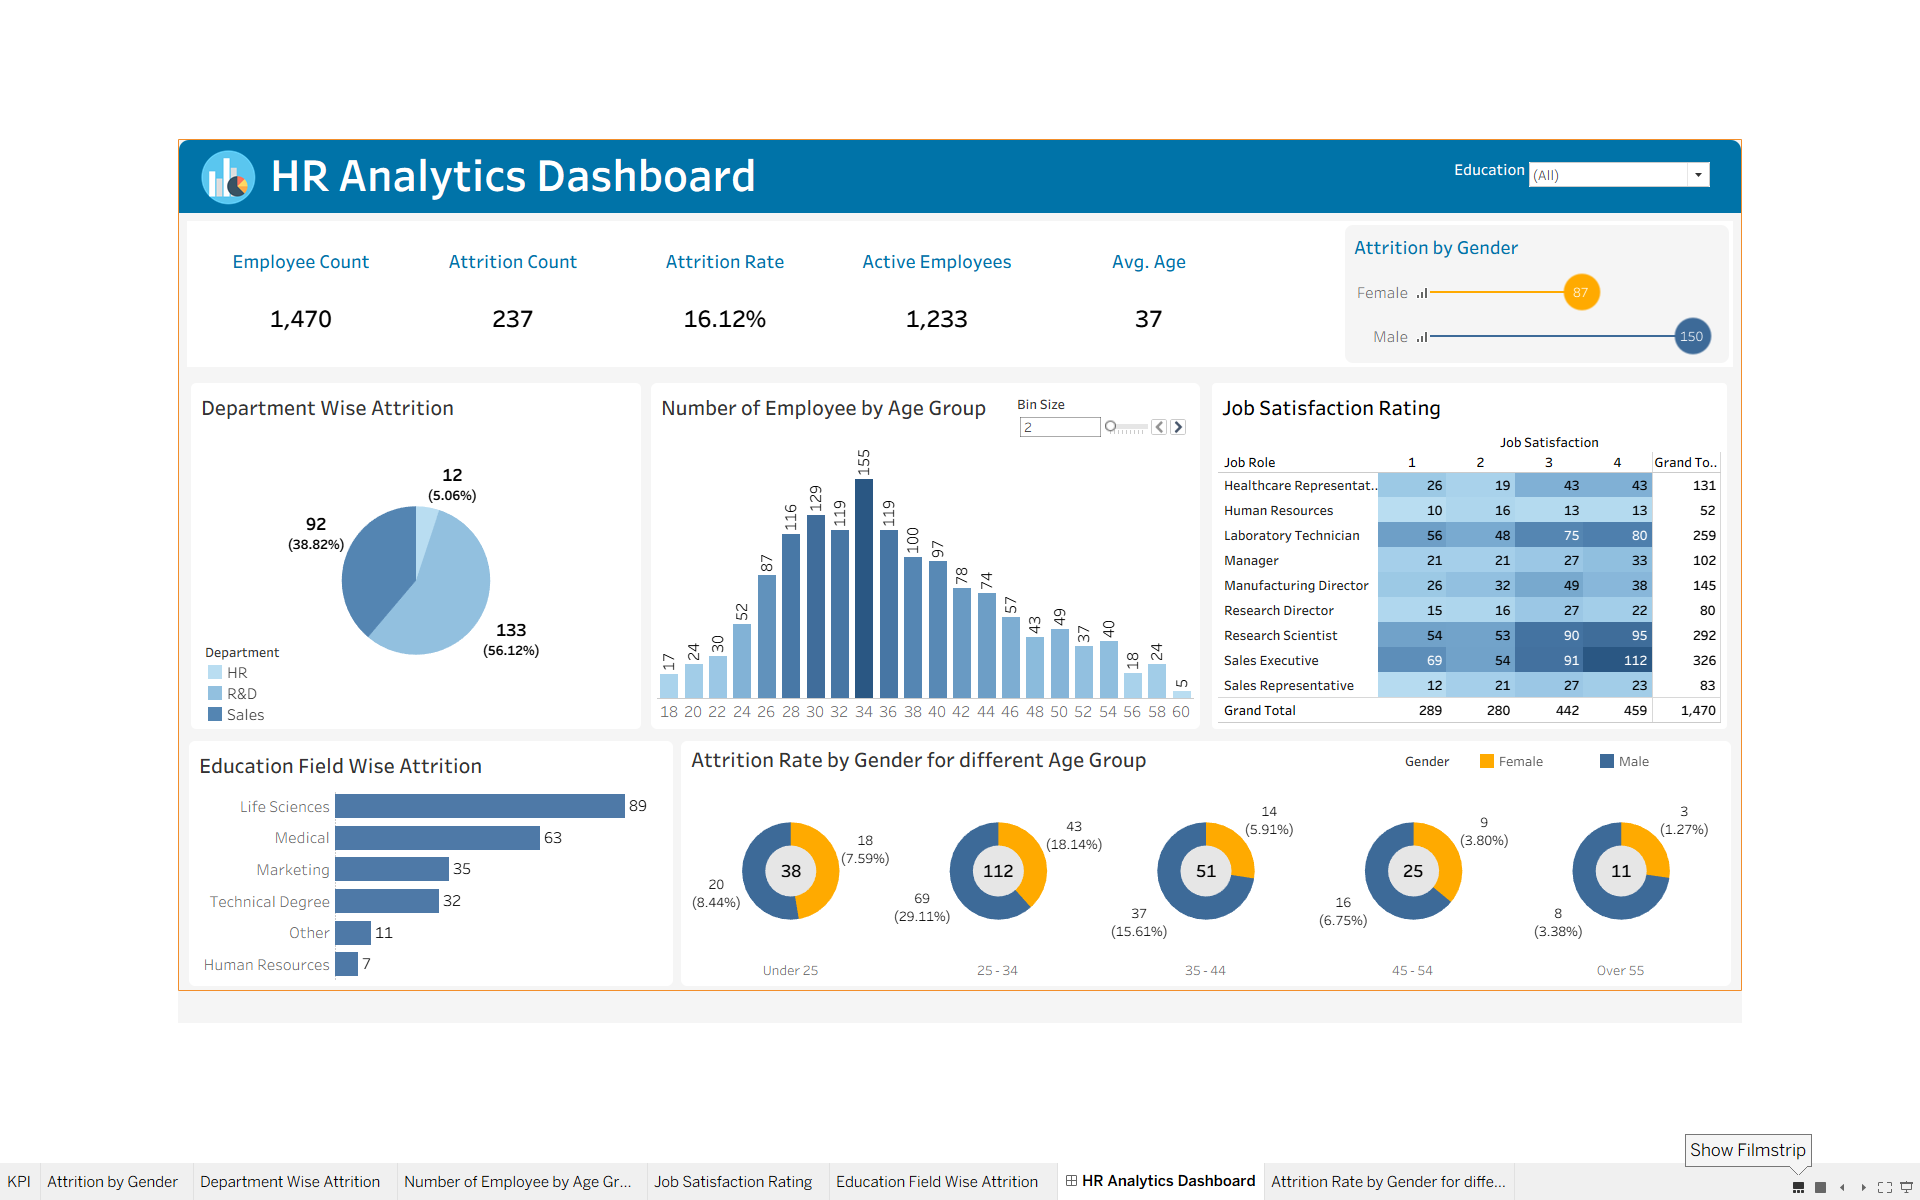

Layout of this report page (visuals, bound fields, positions):
{"tool":"tableau","page":{"name":"HR Analytics Dashboard","canvas":[1580,900],"ordinal":0},"visuals":[{"type":"text","box":[9,9,1562,67]},{"type":"image","param":"C:/Users/prana/Downloads/hr-icon2.png","box":[17,17,83,58]},{"type":"filter","title":"Department Wise Attrition","param":"[federated.0ex1yxt0exub1m16bn6el02u6bpe].[none:Education:nk]","box":[1284,28,259,36]},{"type":"worksheet","title":"KPI","mark":"Automatic","box":[17,90,1154,146]},{"type":"worksheet","title":"Attrition by Gender","mark":"Automatic","rows":["Gender"],"cols":["Calculation_1095115683930112","Calculation_1095115683930112"],"box":[1171,90,392,146]},{"type":"worksheet","title":"Department Wise Attrition","mark":"Pie","box":[17,252,458,346]},{"type":"worksheet","title":"Number of Employee by Age Group","mark":"Automatic","rows":["Employee Count"],"cols":["Age (bin)"],"box":[475,252,561,346]},{"type":"worksheet","title":"Job Satisfaction Rating","mark":"Square","rows":["Job Role"],"cols":["Job Satisfaction"],"box":[1036,252,527,346]},{"type":"parameter","param":"[Parameters].[Parameter 1095115786526724]","box":[847,264,172,52]},{"type":"legend","title":"Department Wise Attrition","param":"[federated.0ex1yxt0exub1m16bn6el02u6bpe].[none:Department:nk]","box":[35,512,102,85]},{"type":"worksheet","title":"Education Field Wise Attrition","mark":"Automatic","rows":["Education Field"],"cols":["Calculation_1095115683930112"],"box":[15,606,492,253]},{"type":"worksheet","title":"Attrition Rate by Gender for different Age Group ","mark":"Pie","rows":["Calculation_0733376760176641","Calculation_0733376760176641"],"cols":["CF_age band"],"box":[507,606,1058,253]},{"type":"legend","title":"Attrition Rate by Gender for different Age Group ","param":"[federated.0ex1yxt0exub1m16bn6el02u6bpe].[none:Gender:nk]","box":[1235,620,322,36]}]}

Visuals, with their boxes on the page's 1580x900 design canvas (x1, y1, x2, y2). These are canvas units, not pixel positions in the 1920x1200 screenshot, which may show the page scaled, cropped or inside an application window:
text: {"x1": 9, "y1": 9, "x2": 1571, "y2": 76}
image: {"x1": 17, "y1": 17, "x2": 100, "y2": 75}
"Department Wise Attrition" filter: {"x1": 1284, "y1": 28, "x2": 1543, "y2": 64}
"KPI" worksheet: {"x1": 17, "y1": 90, "x2": 1171, "y2": 236}
"Attrition by Gender" worksheet: {"x1": 1171, "y1": 90, "x2": 1563, "y2": 236}
"Department Wise Attrition" worksheet (Pie marks): {"x1": 17, "y1": 252, "x2": 475, "y2": 598}
"Number of Employee by Age Group" worksheet: {"x1": 475, "y1": 252, "x2": 1036, "y2": 598}
"Job Satisfaction Rating" worksheet (Square marks): {"x1": 1036, "y1": 252, "x2": 1563, "y2": 598}
parameter: {"x1": 847, "y1": 264, "x2": 1019, "y2": 316}
"Department Wise Attrition" legend: {"x1": 35, "y1": 512, "x2": 137, "y2": 597}
"Education Field Wise Attrition" worksheet: {"x1": 15, "y1": 606, "x2": 507, "y2": 859}
"Attrition Rate by Gender for different Age Group " worksheet (Pie marks): {"x1": 507, "y1": 606, "x2": 1565, "y2": 859}
"Attrition Rate by Gender for different Age Group " legend: {"x1": 1235, "y1": 620, "x2": 1557, "y2": 656}
